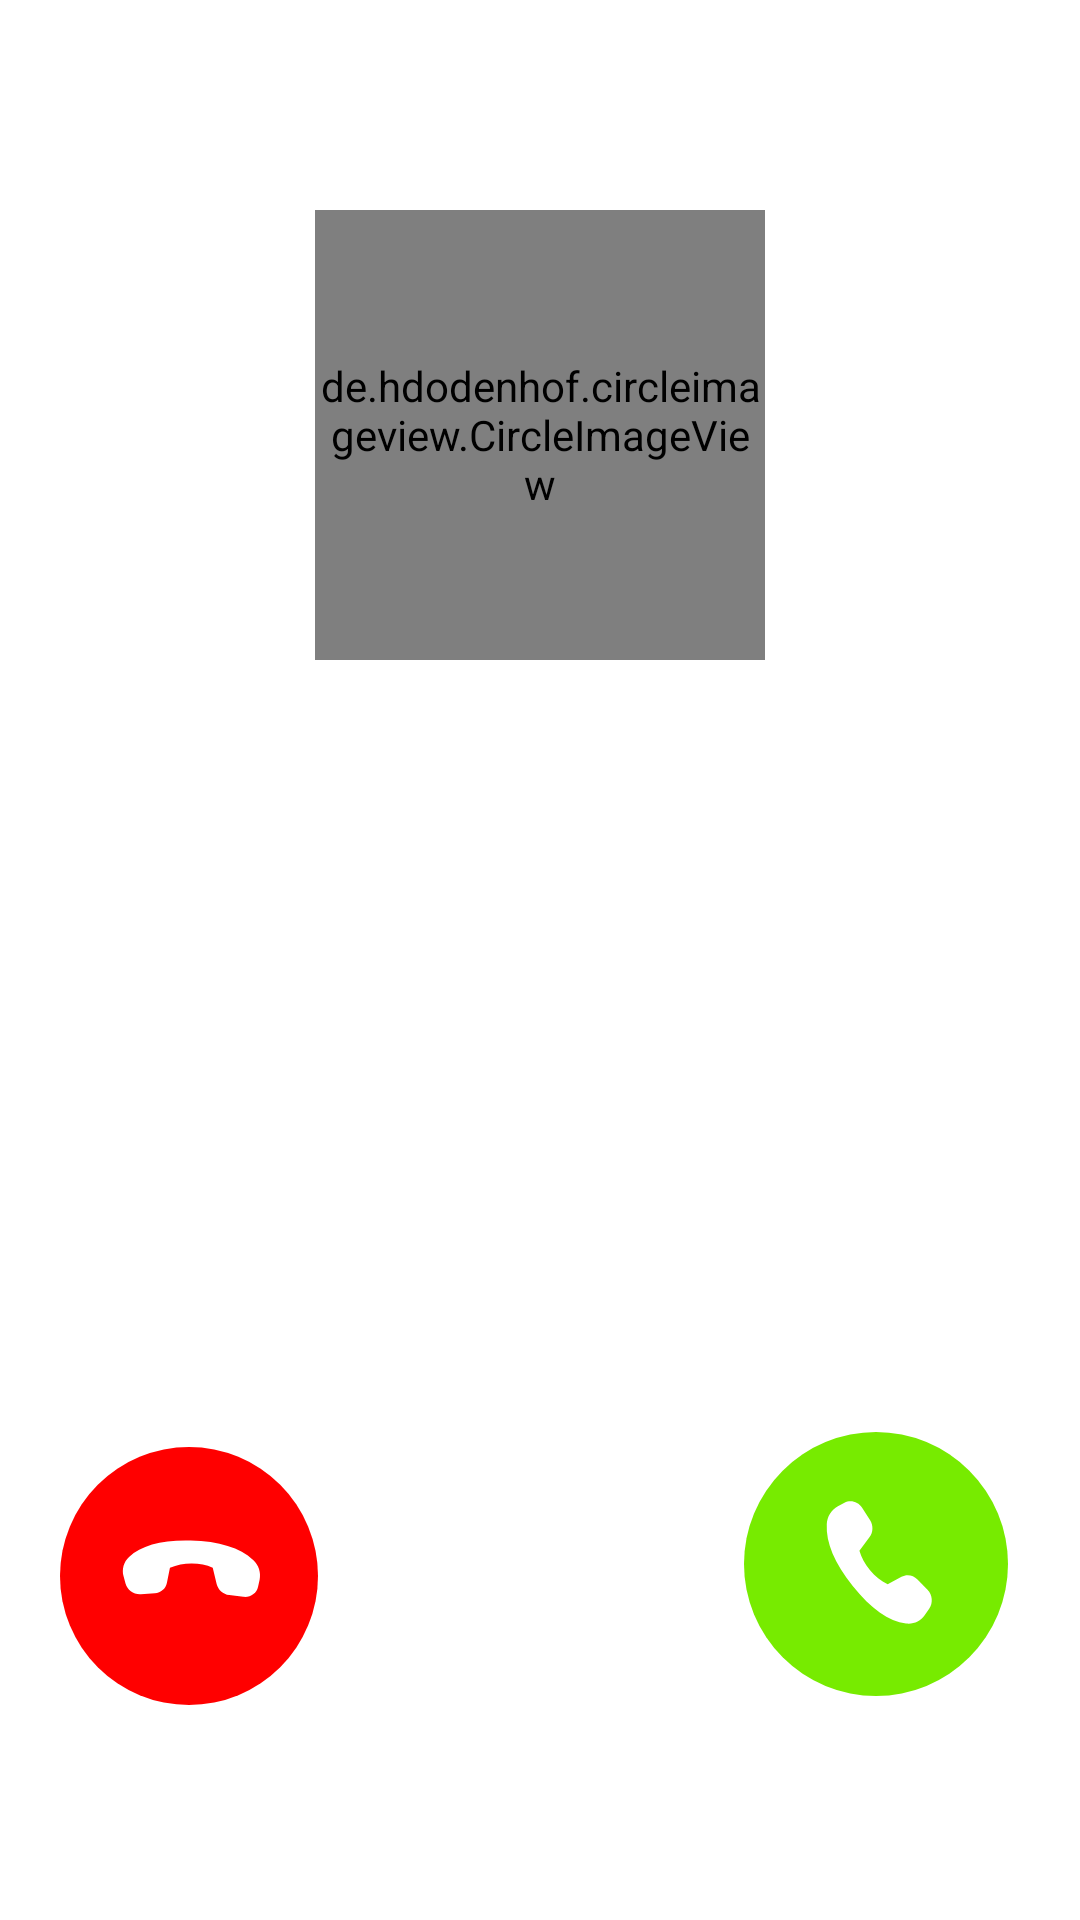

Named icons in this screenshot (1080*1920) and their centers, [x,y]:
attend call: [876,1564]
stop call: [189,1576]
